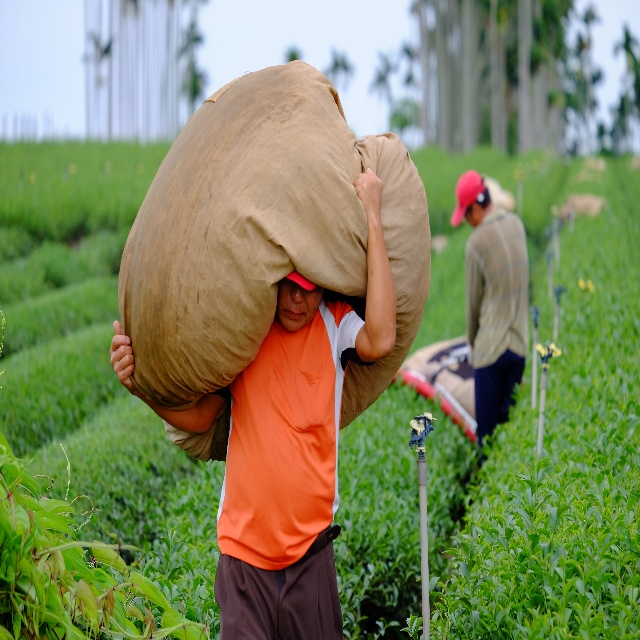Sin_guantes: (109, 319, 136, 393), (353, 166, 383, 213)
